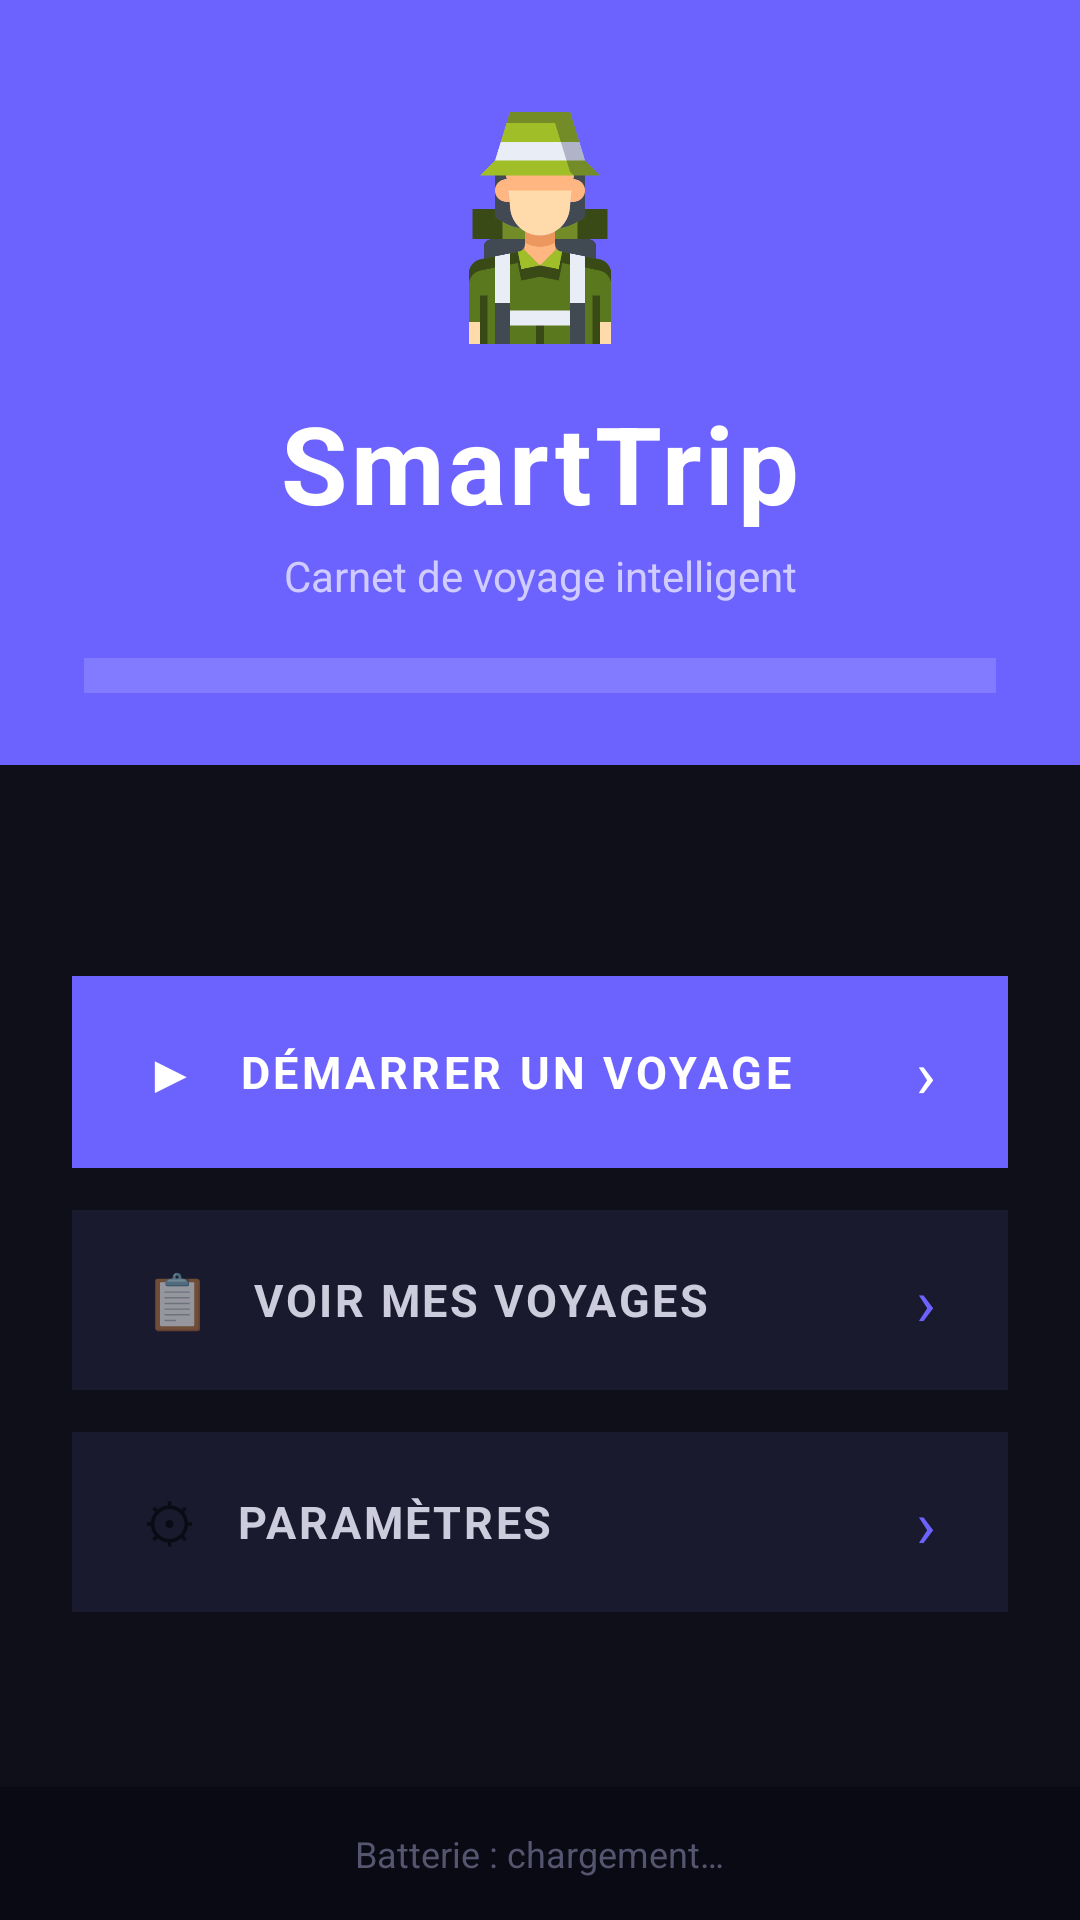

Icons on this 1080px×1920px Android screen, each with its box as detection(x1, y1, x2, y2):
traveler: detection(469, 112, 611, 344)
